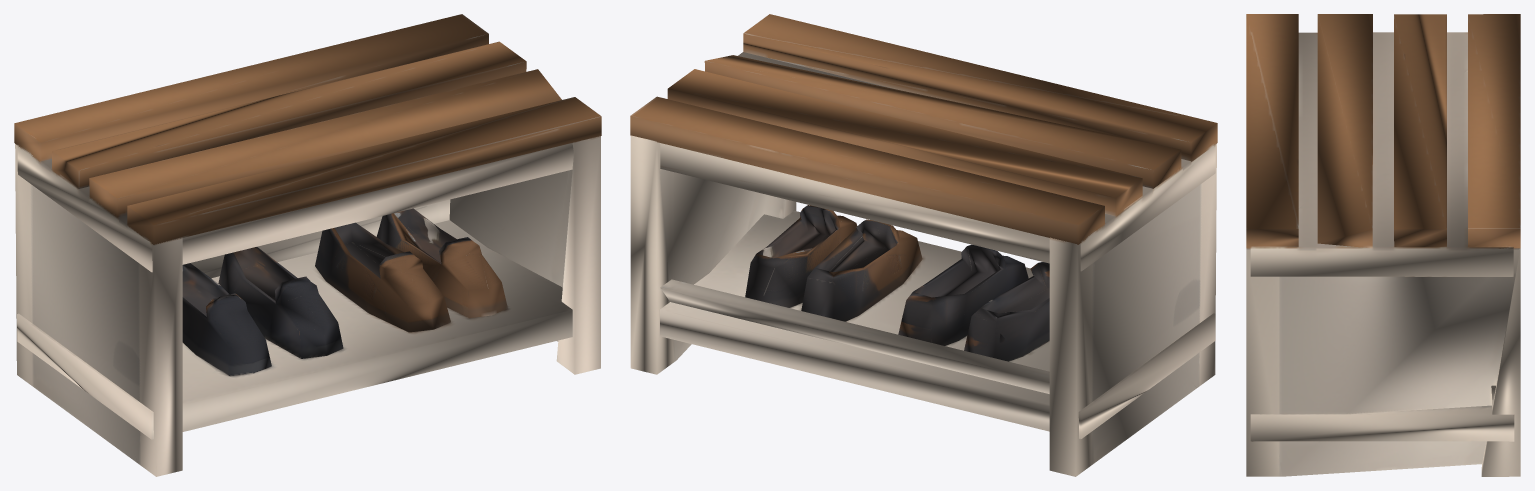
The model's file is entry_bench.fbx.
3 views of the same model, side by side, from view 1: azimuth 30°, elevation 25°; view 2: azimuth 150°, elevation 25°; view 3: azimuth 270°, elevation 25° (orthographic).
Parts seen in each view (by area): view 1: Mesh_0; view 2: Mesh_0; view 3: Mesh_0.
Boxes of the visible parts, x1,y1,x2,y2 form: Mesh_0: [14, 14, 601, 476]; Mesh_0: [630, 14, 1217, 476]; Mesh_0: [1246, 14, 1520, 476].
Bounding box in the file's own units: 95.9 × 51.61 × 51.61.
Materials: 1 (1 with a texture image).
